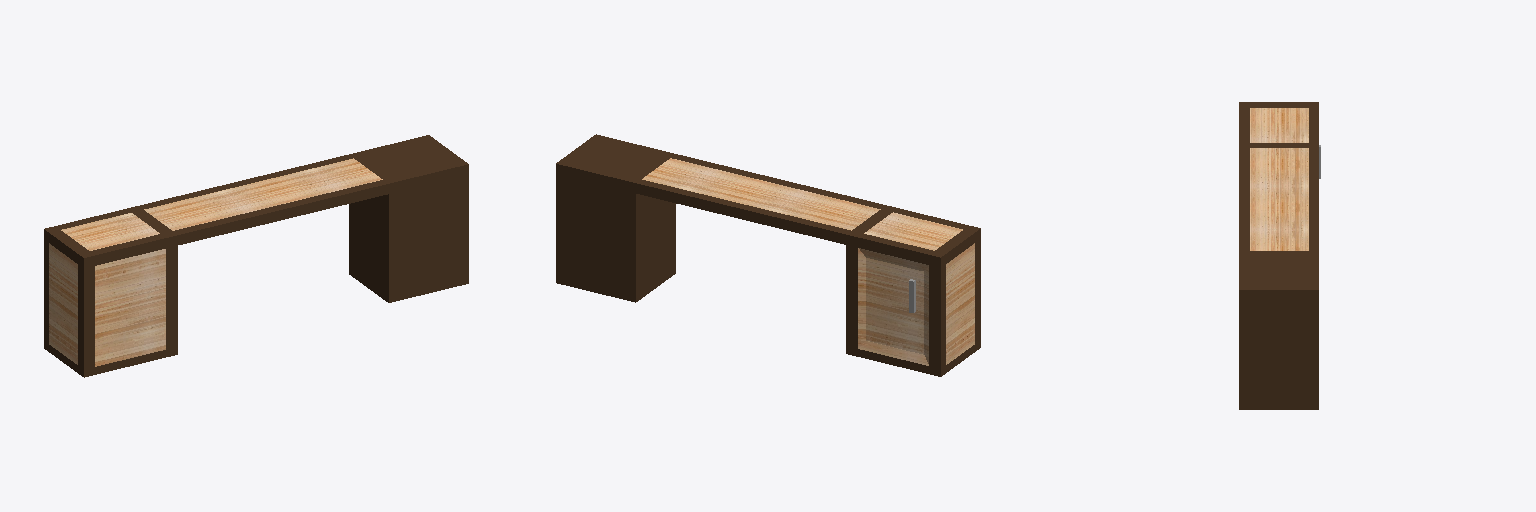
3 renders of one model, left to right at view 1: azimuth 30°, elevation 25°; view 2: azimuth 150°, elevation 25°; view 3: azimuth 270°, elevation 25°, orthographic.
Parts seen in each view (by area): view 1: derecha_playa muebles_playa; view 2: derecha_playa muebles_playa; view 3: derecha_playa muebles_playa.
Part boxes in pixels (bbox=[...]): derecha_playa muebles_playa: bbox=[44, 135, 468, 377]; derecha_playa muebles_playa: bbox=[556, 134, 980, 376]; derecha_playa muebles_playa: bbox=[1239, 102, 1320, 409].
Size of the model in its own units: 14.33 by 4.25 by 2.63.
Materials: 1 (1 with a texture image).